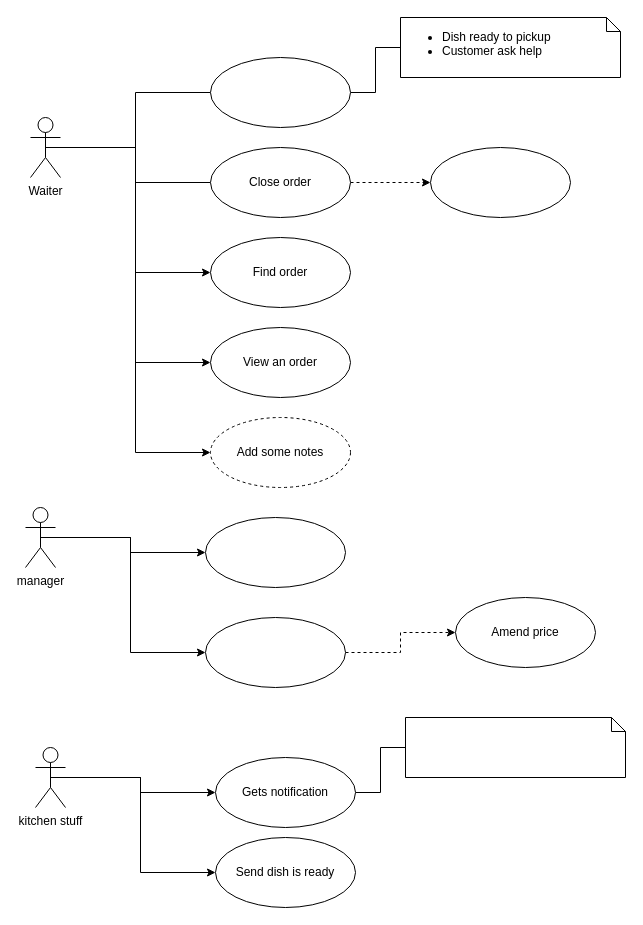
Some shapes in this 643 by 925 pixel diagram are drawn without their labels. The shapes that lost their labels are listed below. From the top down, each one's centre as x and y in pixels, then its label:
At point (280, 92): "Get notifications".
At point (500, 182): "send a bill".
At point (275, 552): "Cancel order".
At point (275, 652): "Amend order".
At point (515, 747): "Dish canceled New order".
